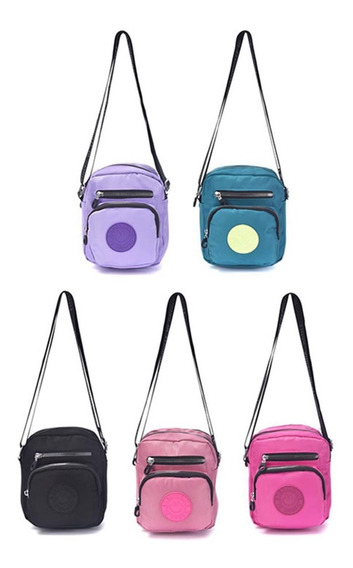cartera: (194, 31, 291, 273), (242, 292, 336, 534), (79, 28, 171, 272), (18, 290, 108, 534), (131, 292, 220, 537)
